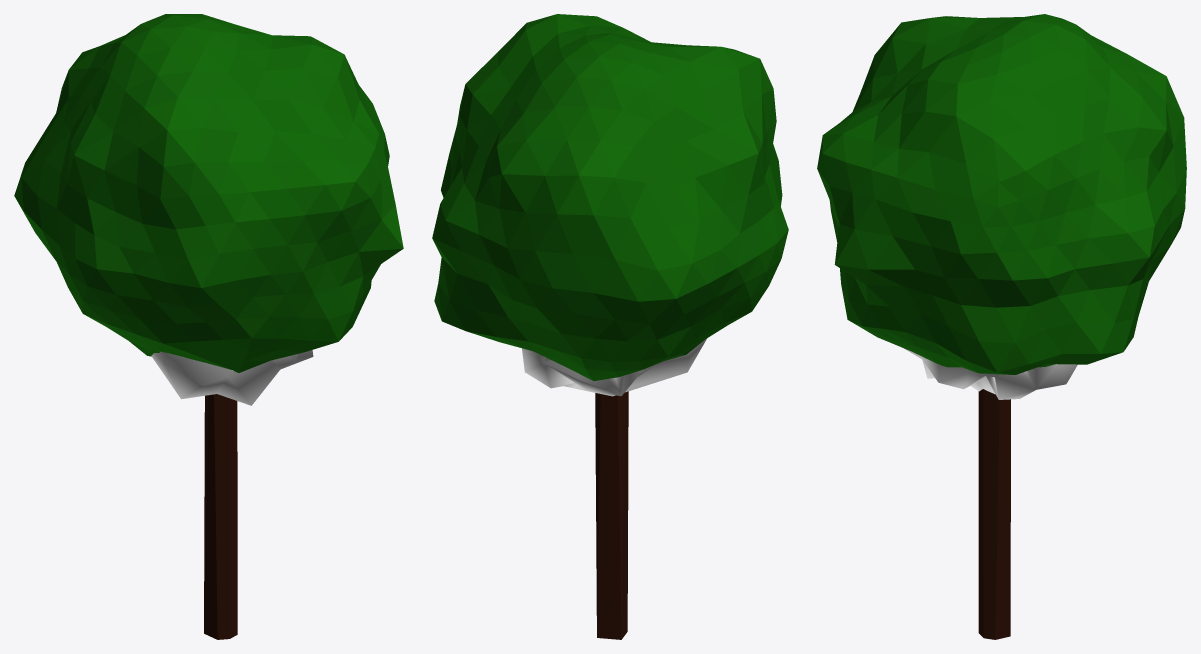
File: Tree.fbx
3 views of the same model, side by side, from view 1: azimuth 30°, elevation 25°; view 2: azimuth 150°, elevation 25°; view 3: azimuth 270°, elevation 25° (orthographic).
Visible parts, largest first — view 1: Icosphere, Cylinder, Sphere; view 2: Icosphere, Cylinder, Sphere; view 3: Icosphere, Cylinder, Sphere.
Part boxes in pixels (<box>): Icosphere: <box>14,14,403,372</box>; Cylinder: <box>204,394,237,639</box>; Sphere: <box>151,350,313,405</box>; Icosphere: <box>432,14,788,380</box>; Cylinder: <box>595,391,628,639</box>; Sphere: <box>522,338,706,396</box>; Icosphere: <box>817,14,1186,374</box>; Cylinder: <box>978,389,1010,639</box>; Sphere: <box>904,348,1077,399</box>.
Size of the model in its own units: 1115 by 2074 by 1156.
